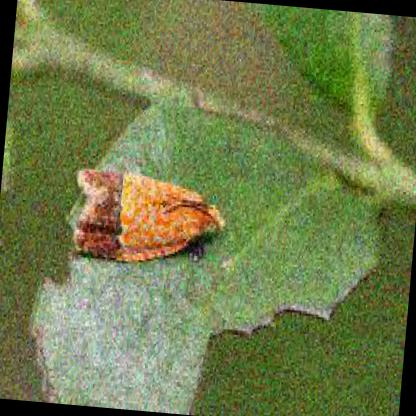Leaf Webber: (64, 163, 228, 271)
